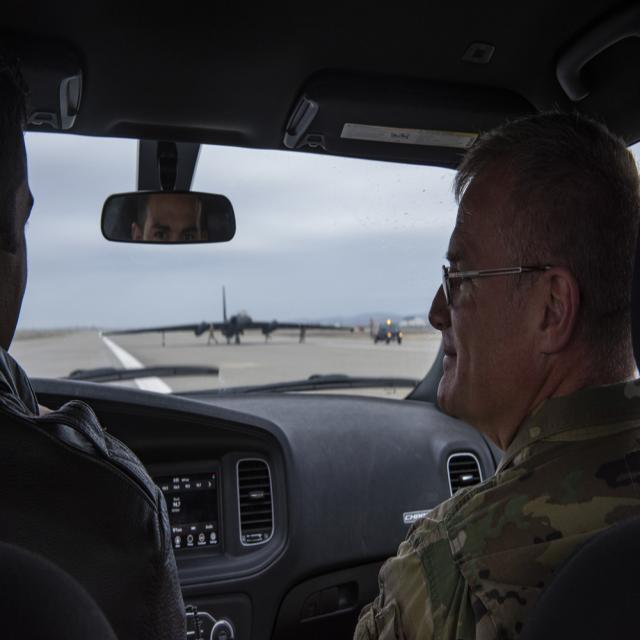MIL_Plane: (98, 284, 354, 347)
